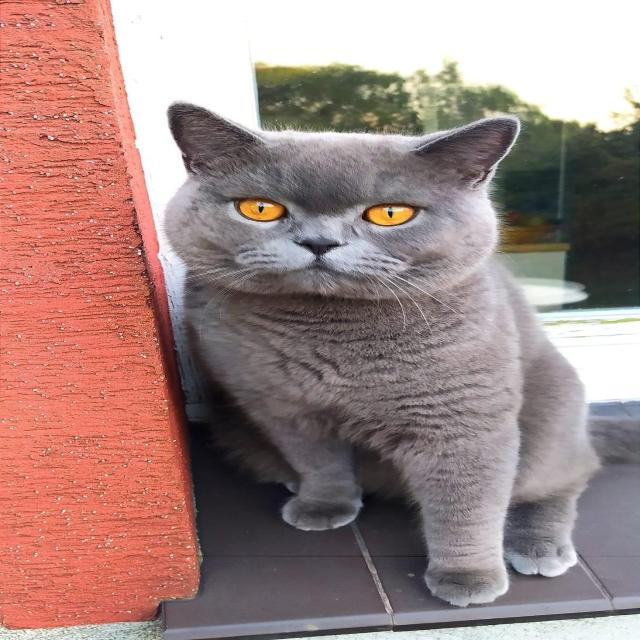british shorthair: (0, 77, 640, 568)
